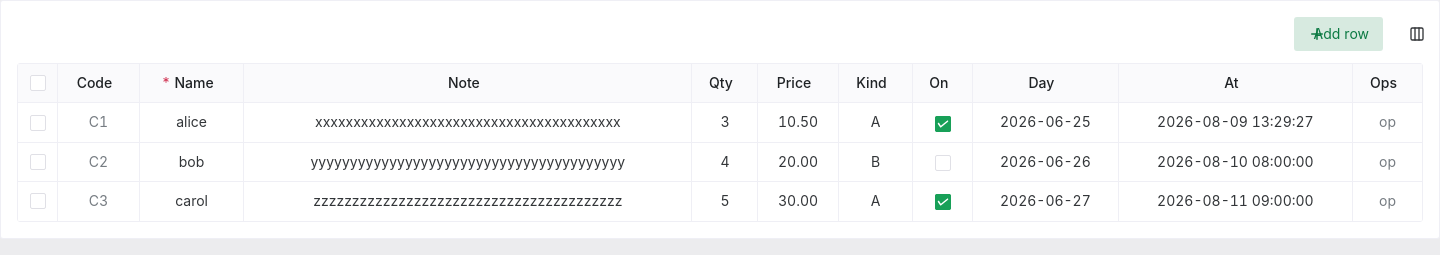
选中 → 进入编辑 → 提交 › 单击 = 选中(data-xsel);再击已选中的格 = 进入编辑,控件是官方 NInput
The image size is (1440, 255).
Click the cell "alice".
click(192, 123)  # box [140,103,244,143]
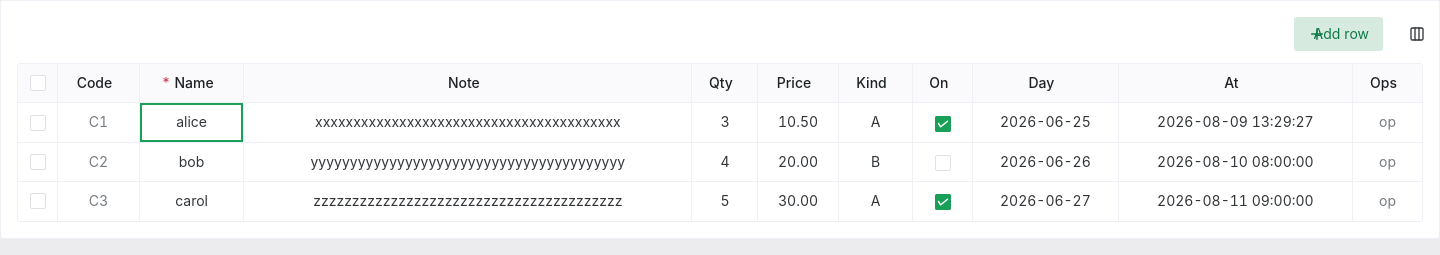
Expected: the cell "alice" has attribute data-xsel
Click the cell "alice".
click(192, 123)  # box [140,103,244,143]
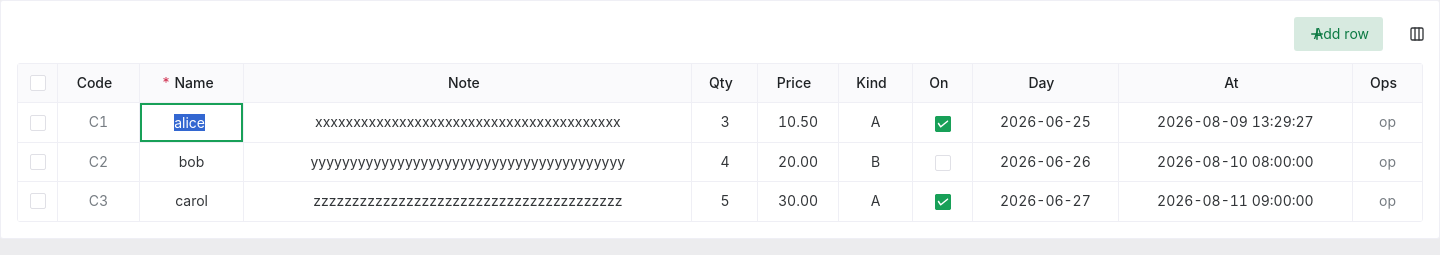
Expected: the element with class "n-input" is shown, [140,103,243,142]
Expected: the field holds "alice", [148,103,231,142]
